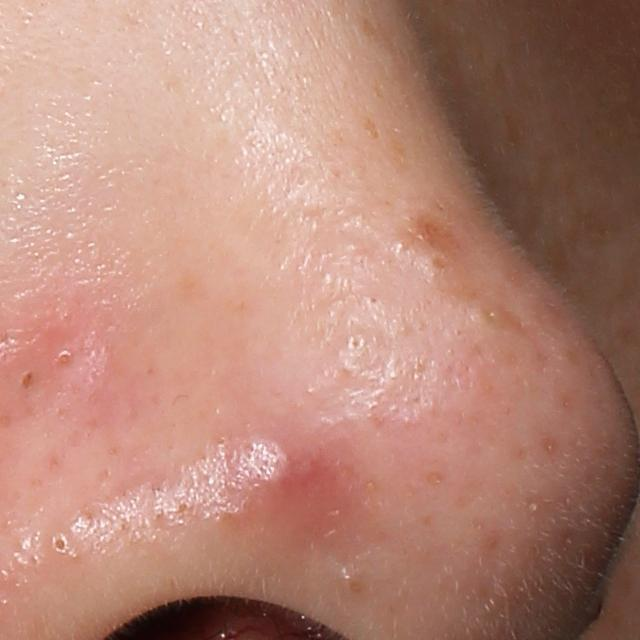comedo: (48, 339, 79, 374), (12, 362, 41, 397), (44, 527, 74, 560), (341, 331, 373, 355), (365, 292, 382, 306)
